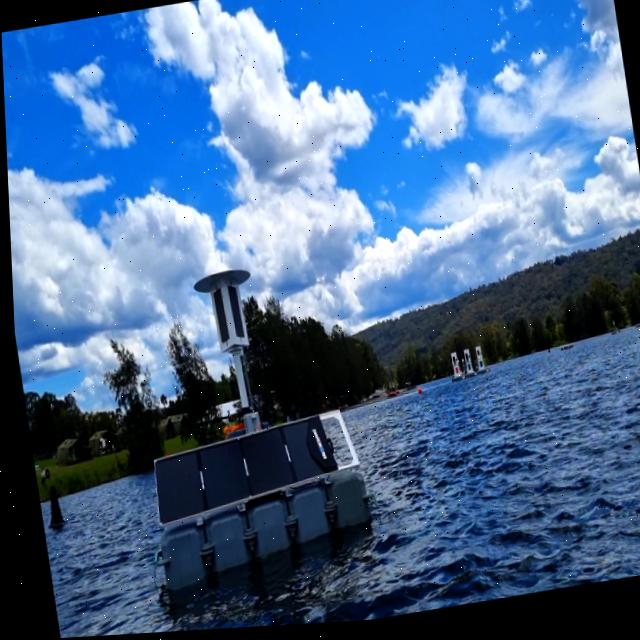led: (222, 283, 243, 346), (208, 288, 229, 347)
